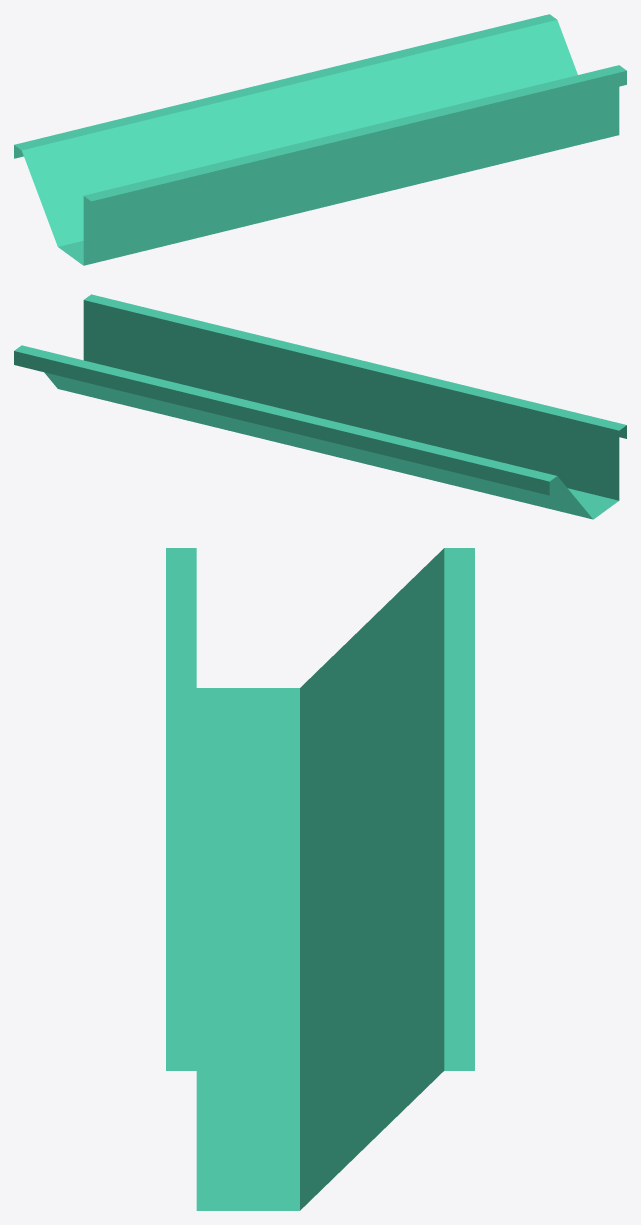
The model's file is Floor_4x1m_A.FBX.
3 views of the same model, one above another, from view 1: azimuth 30°, elevation 25°; view 2: azimuth 150°, elevation 25°; view 3: azimuth 270°, elevation 25° (orthographic). The views are drawn at different scales.
Parts seen in each view (by area): view 1: Floor_4x1m_A; view 2: Floor_4x1m_A; view 3: Floor_4x1m_A.
Part boxes in pixels (left/top/right/bottom): Floor_4x1m_A: left=14, top=14, right=626, bottom=265; Floor_4x1m_A: left=14, top=294, right=626, bottom=519; Floor_4x1m_A: left=166, top=548, right=474, bottom=1210.
Size of the model in its own units: 400 by 50 by 100.
